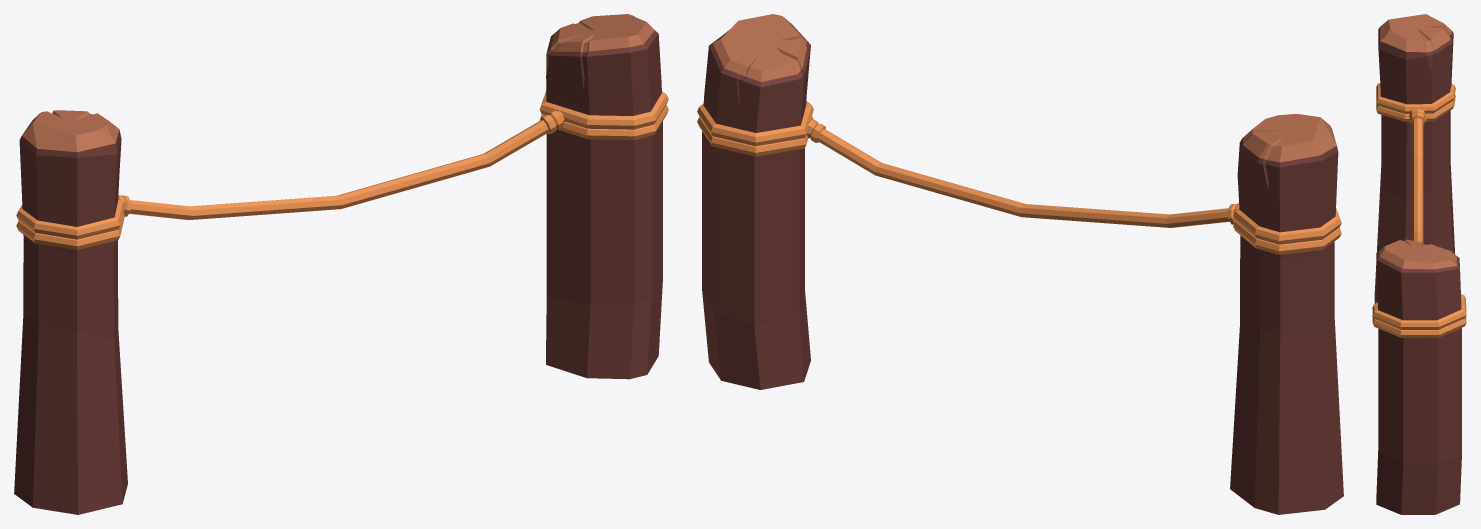
File: Fence Wooden Blunt 04.fbx
3 renders of one model, left to right at view 1: azimuth 30°, elevation 25°; view 2: azimuth 150°, elevation 25°; view 3: azimuth 270°, elevation 25°, orthographic. The views are drawn at different scales.
Parts seen in each view (by area): view 1: Fence Wooden Blunt 04; view 2: Fence Wooden Blunt 04; view 3: Fence Wooden Blunt 04.
Boxes of the visible parts, x1,y1,x2,y2 form: Fence Wooden Blunt 04: (14,14,668,514); Fence Wooden Blunt 04: (697,14,1343,514); Fence Wooden Blunt 04: (1372,14,1466,514).
Bounding box in the file's own units: 199 × 111 × 34.08.
